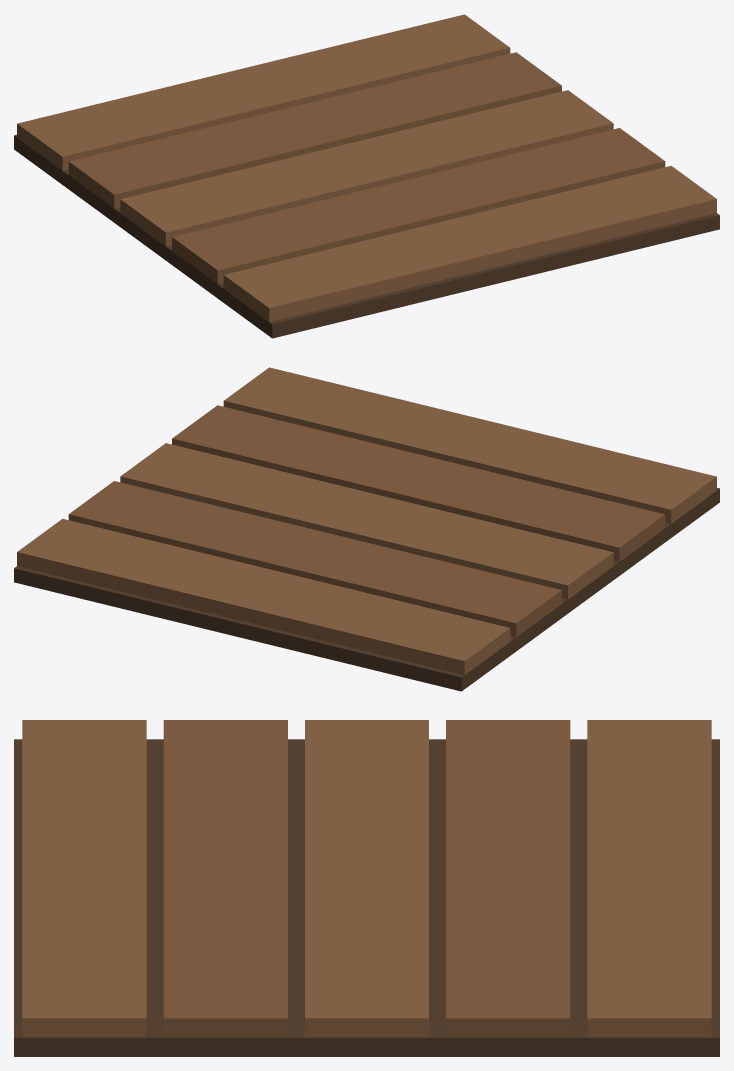
The model's file is wg_boden_deck.glb.
3 renders of one model, top to bottom at view 1: azimuth 30°, elevation 25°; view 2: azimuth 150°, elevation 25°; view 3: azimuth 270°, elevation 25°, orthographic. The views are drawn at different scales.
Parts seen in each view (by area): view 1: wg_boden_deck; view 2: wg_boden_deck; view 3: wg_boden_deck.
Boxes of the visible parts, <box> form: wg_boden_deck: <box>14,14,719,338</box>; wg_boden_deck: <box>14,367,719,691</box>; wg_boden_deck: <box>14,720,719,1056</box>.
Size of the model in its own units: 1 by 0.06 by 1.
